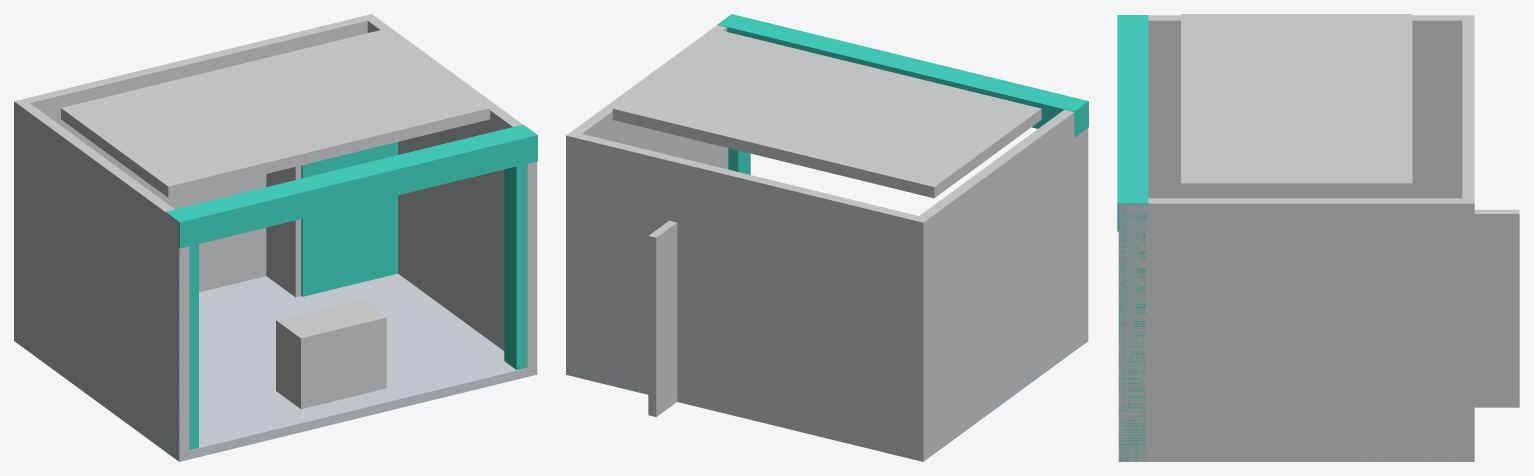
3 renders of one model, left to right at view 1: azimuth 30°, elevation 25°; view 2: azimuth 150°, elevation 25°; view 3: azimuth 270°, elevation 25°, orthographic. The views are drawn at different scales.
Visible parts, largest first — view 1: Exhibition Booth Concept; view 2: Exhibition Booth Concept; view 3: Exhibition Booth Concept.
Boxes of the visible parts, left/top/right/bottom form: Exhibition Booth Concept: left=14, top=14, right=537, bottom=461; Exhibition Booth Concept: left=566, top=14, right=1088, bottom=461; Exhibition Booth Concept: left=1117, top=14, right=1519, bottom=461.
Size of the model in its own units: 5 by 3.34 by 4.52.
